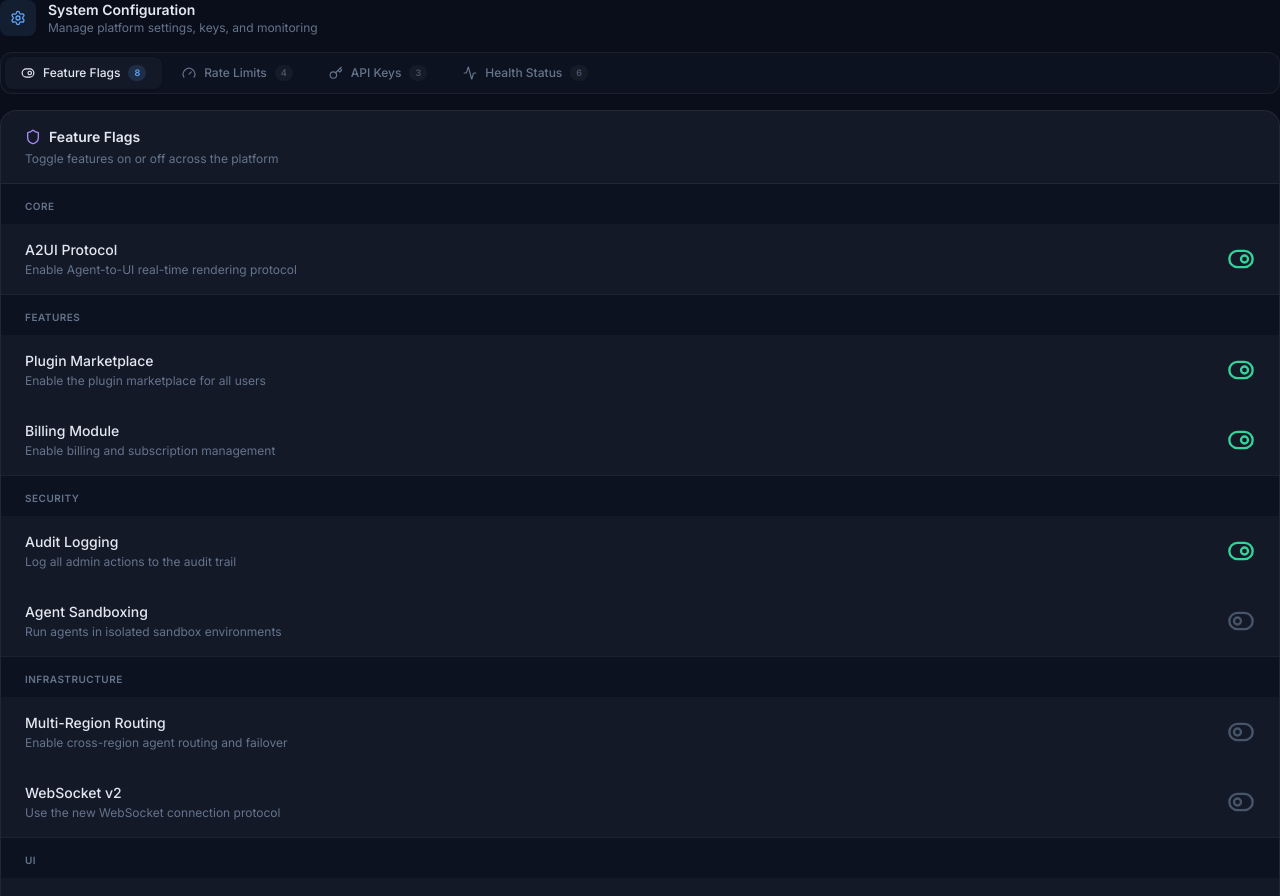
SystemConfig › revokes a key when the revoke button is clicked
Click the button "API Keys 3" at (378, 73), box [313,57,443,89]
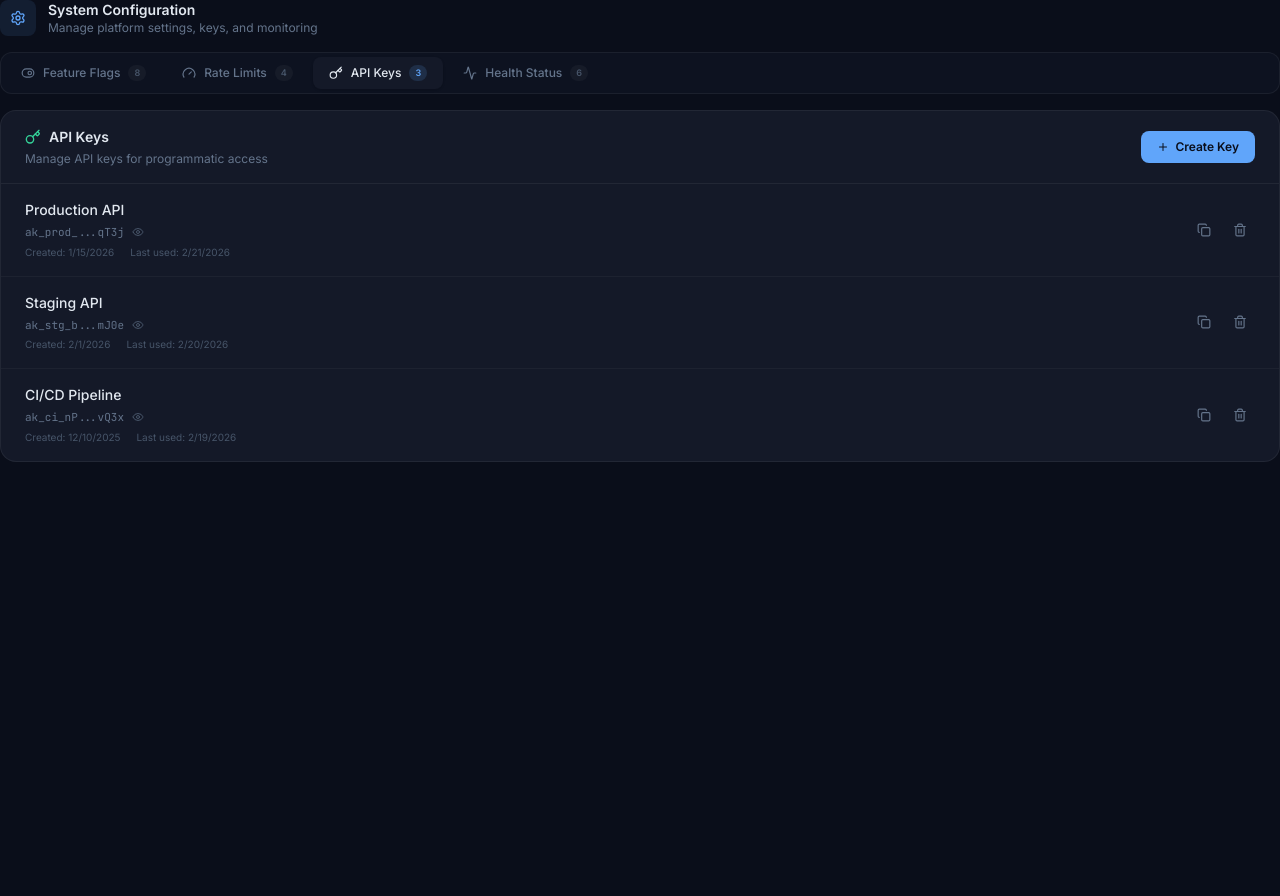
expect the number of buttons titled "Revoke key" is 3: met
Note: Revoke the first key
Click the button titled "Revoke key" in the row of "Production API" at (1240, 230), box [1225,215,1255,245]
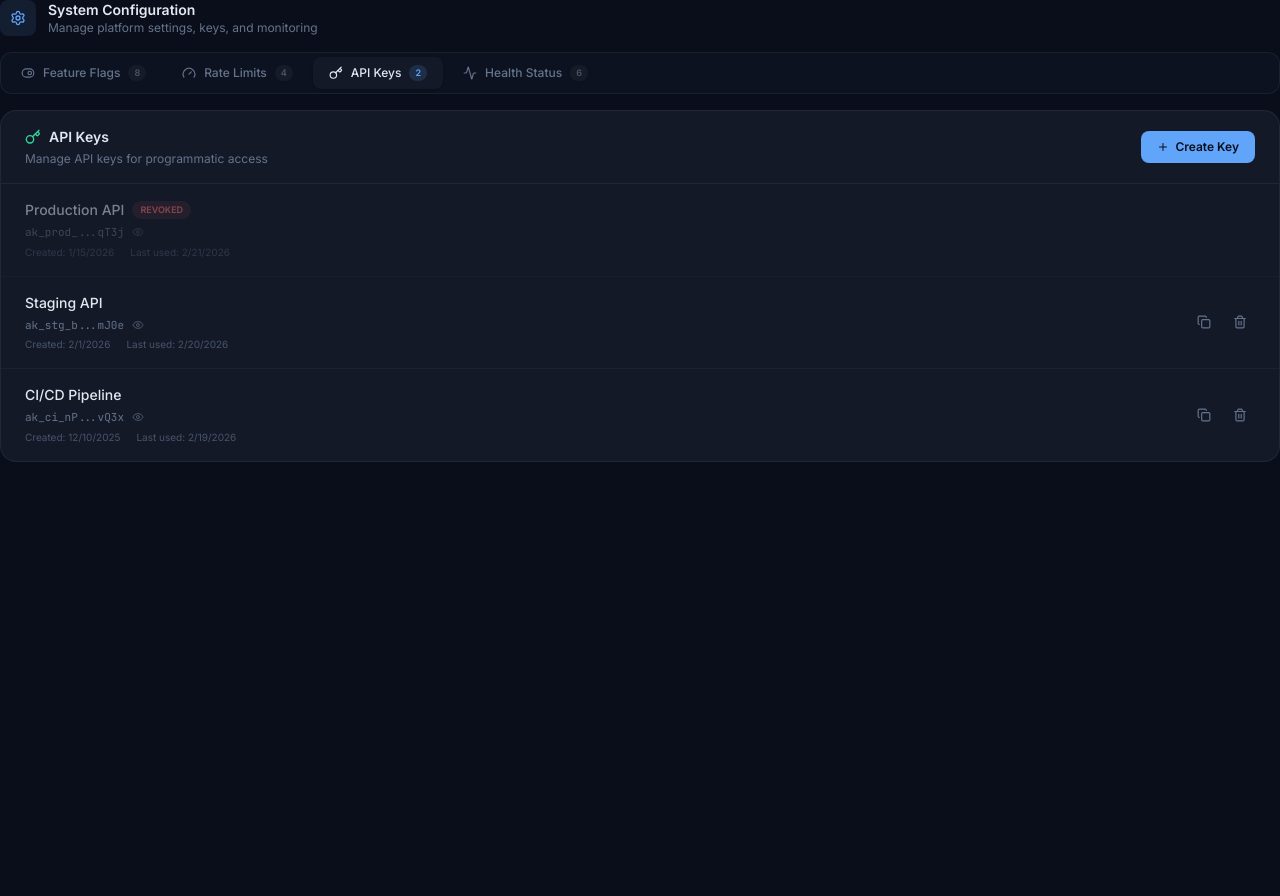
expect the number of buttons titled "Revoke key" is 2: met, box [1225,307,1255,337]; [1225,400,1255,430]
expect the text "Revoked" is shown: met, box [132,201,191,219]
